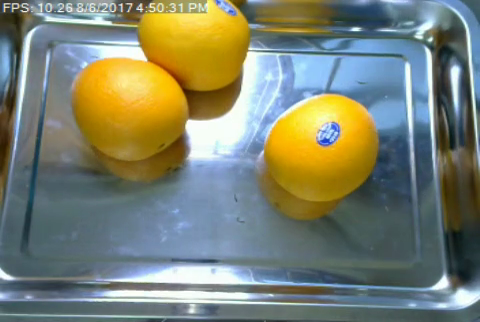Orange: (264, 92, 379, 202), (69, 58, 189, 161), (135, 0, 249, 92)
